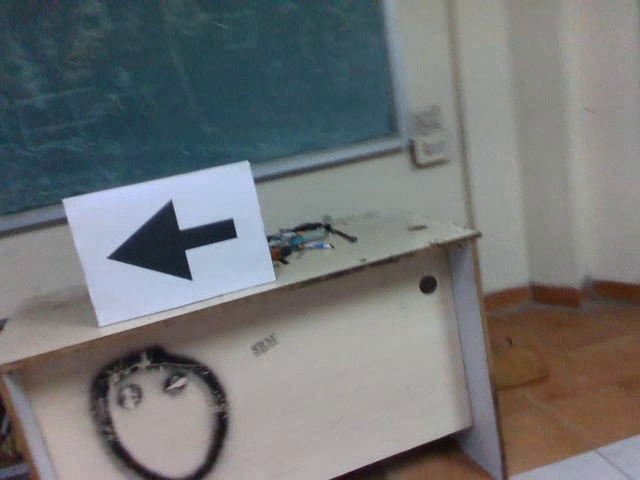Left: (106, 197, 241, 282)
